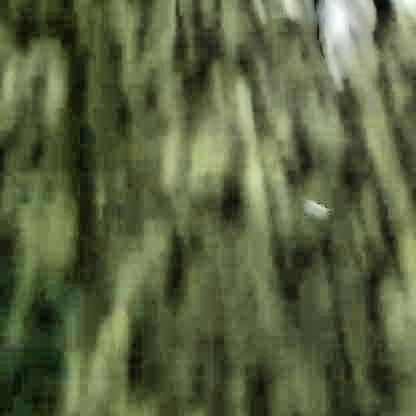golfball: (302, 201, 326, 219)
